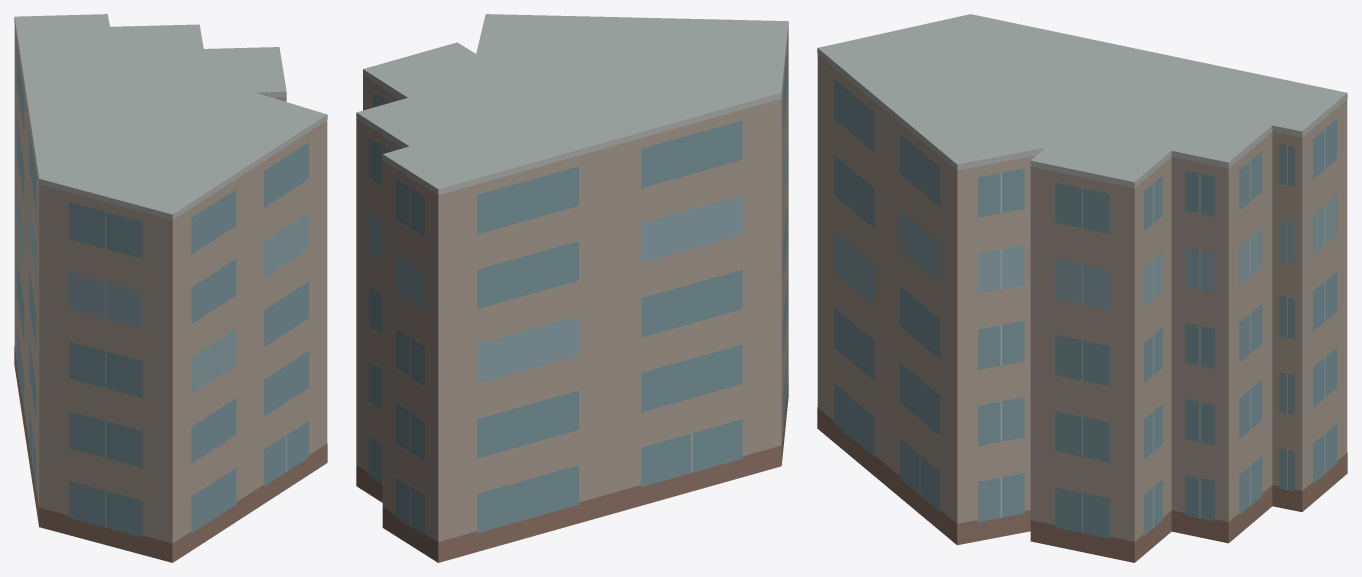
File: survey-upis-32584207.glb
3 renders of one model, left to right at view 1: azimuth 30°, elevation 25°; view 2: azimuth 150°, elevation 25°; view 3: azimuth 270°, elevation 25°, orthographic. The views are drawn at different scales.
Visible parts, largest first — view 1: survey-upis-32584207.tmp; view 2: survey-upis-32584207.tmp; view 3: survey-upis-32584207.tmp.
Part boxes in pixels (bbox=[...]): survey-upis-32584207.tmp: bbox=[14, 14, 327, 562]; survey-upis-32584207.tmp: bbox=[356, 14, 788, 562]; survey-upis-32584207.tmp: bbox=[817, 14, 1347, 562].
Bounding box in the file's own units: 14.46 × 15.25 × 19.25.
